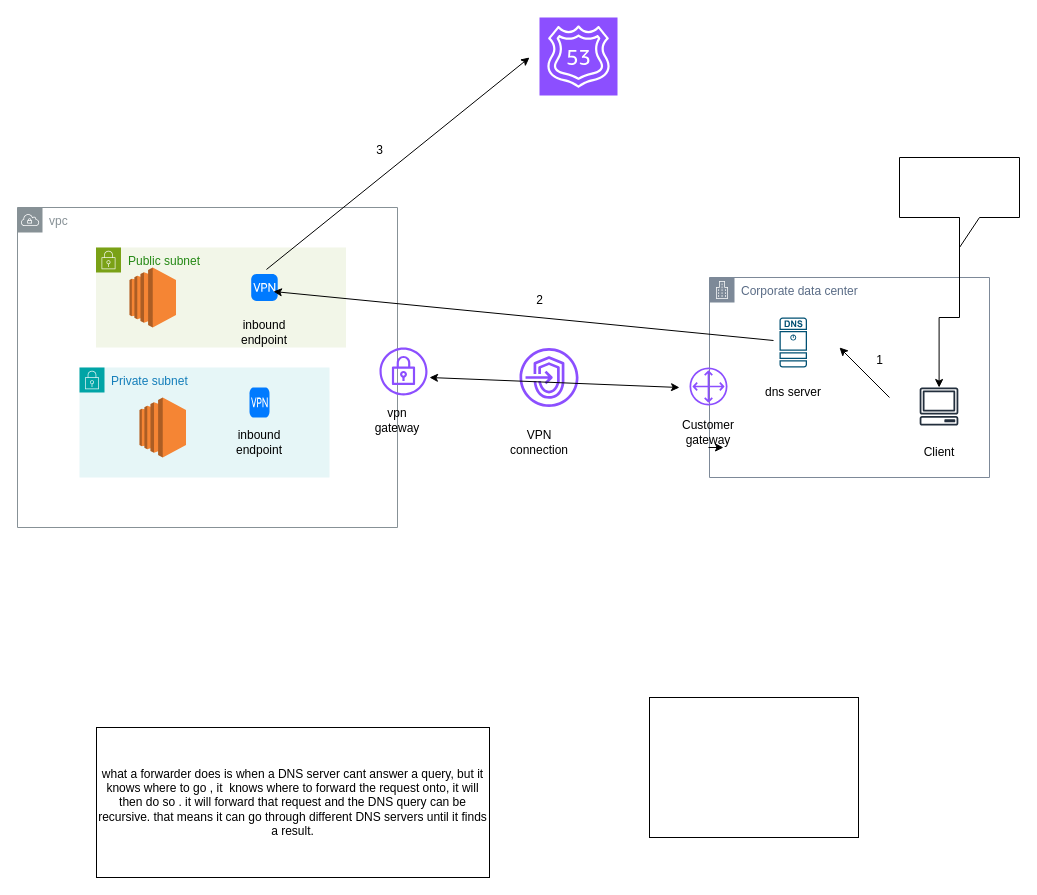
Some shapes in this 1037 by 895 pixel diagram are drawn without their labels. Here are the shapes that lost their labels. From the top down, the centre of each, then its label:
At (959,202): "result is returned by Route 53 via the Inbound Endpoint".
At (753,767): "the resolver can enable to work with on premise".
